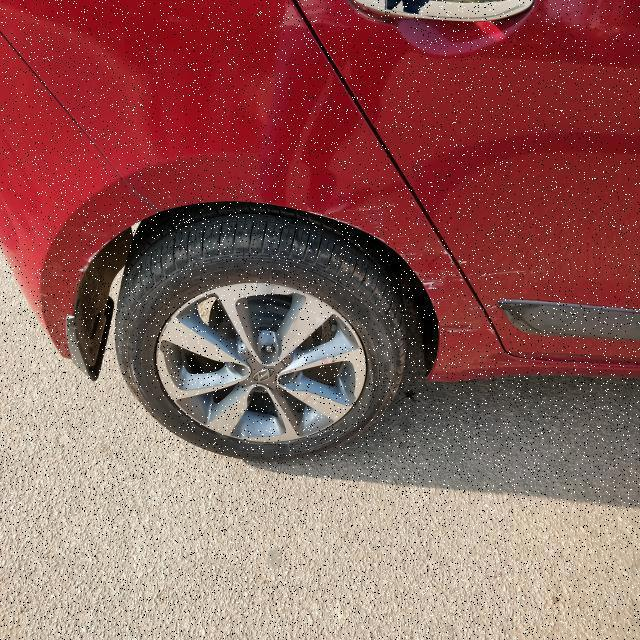quaterpanel-dent: (130, 0, 441, 385)
